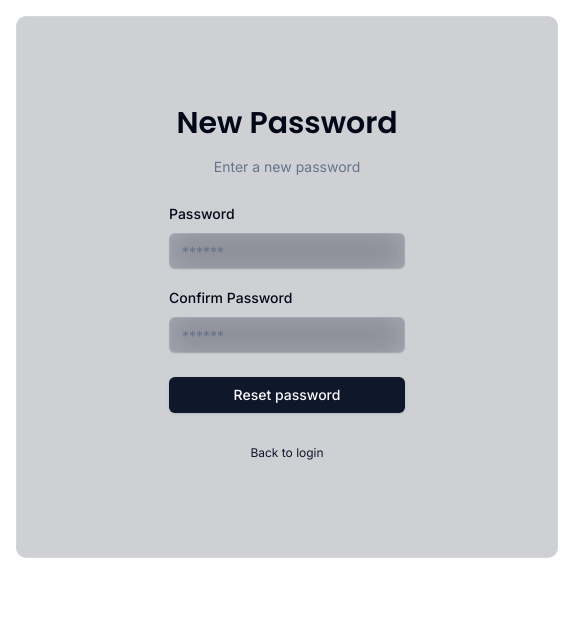
it: NewPasswordPageView Component › submits form with valid password
The width and height of the screenshot is (575, 643).
Type "newPassword123" into the password field labelled "Password" at {"x": 287, "y": 251}, box [169,233,405,269]
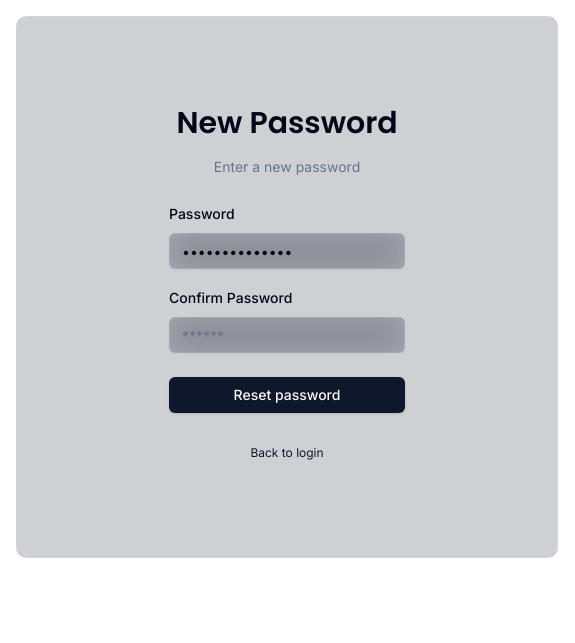
Type "newPassword123" into the password field labelled "Confirm Password" at {"x": 287, "y": 335}, box [169,317,405,353]
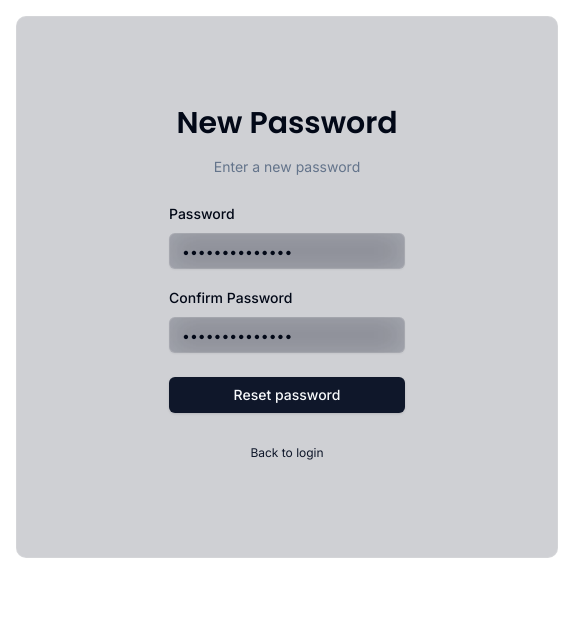
Click the button "Reset password" at {"x": 287, "y": 395}, box [169,377,405,413]
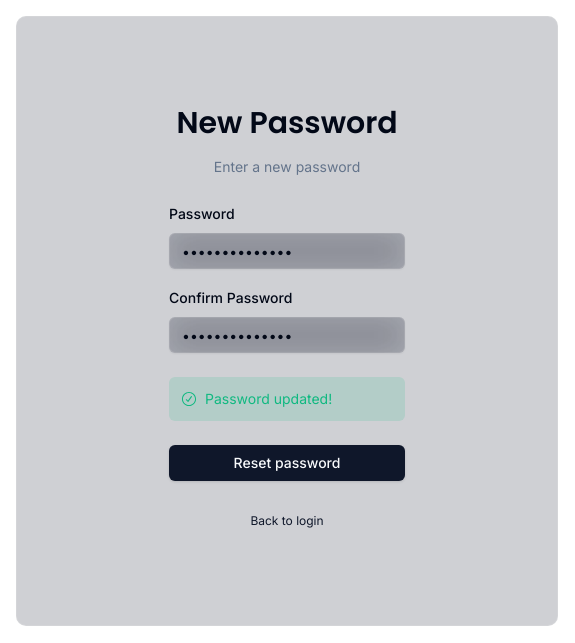
Expected: the text "Password updated!" is shown, [205,389,332,409]
